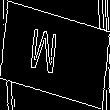M_S: (39, 26, 71, 84)
